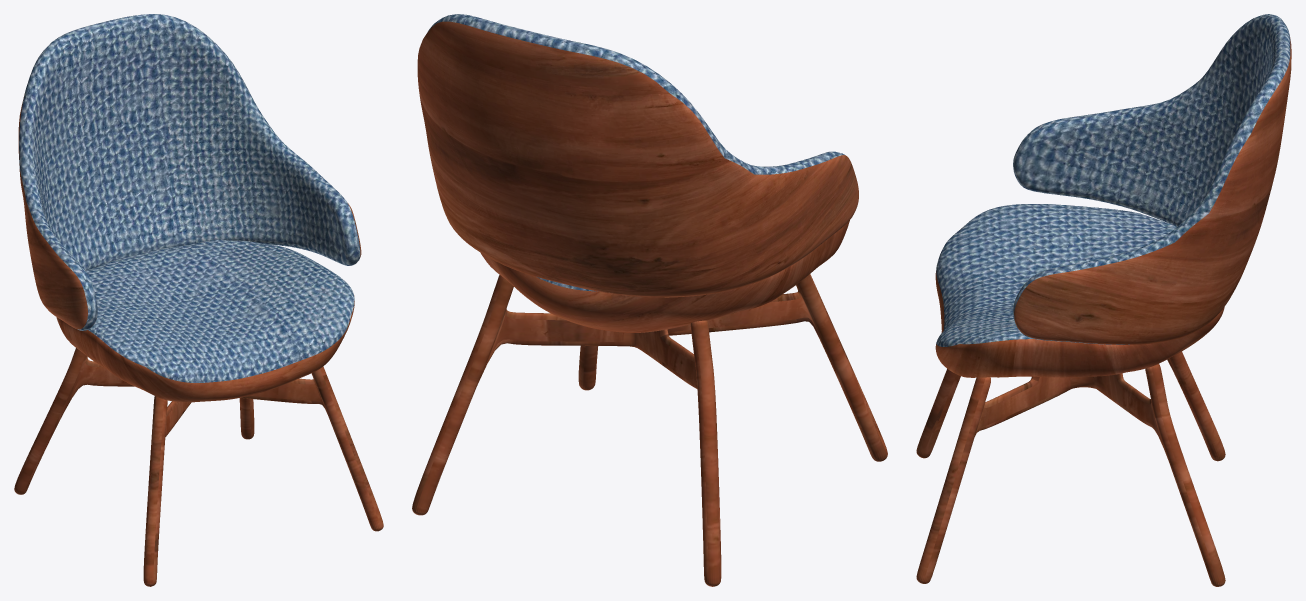
3 renders of one model, left to right at view 1: azimuth 30°, elevation 25°; view 2: azimuth 150°, elevation 25°; view 3: azimuth 270°, elevation 25°, orthographic. The views are drawn at different scales.
Parts seen in each view (by area): view 1: Chair_Back, Chair_Sit, Chair_Legs; view 2: Chair_Back, Chair_Legs, Chair_Sit; view 3: Chair_Back, Chair_Sit, Chair_Legs.
Part boxes in pixels (x1=…): Chair_Back: x1=18, y1=14, x2=361, y2=330; Chair_Sit: x1=56, y1=239, x2=354, y2=402; Chair_Legs: x1=14, y1=348, x2=383, y2=586; Chair_Back: x1=417, y1=14, x2=858, y2=297; Chair_Legs: x1=412, y1=274, x2=887, y2=586; Chair_Sit: x1=480, y1=220, x2=849, y2=332; Chair_Back: x1=1013, y1=14, x2=1291, y2=344; Chair_Sit: x1=935, y1=204, x2=1224, y2=377; Chair_Legs: x1=916, y1=351, x2=1225, y2=586.
Size of the model in its own units: 1.83 by 2.63 by 1.86.
2 materials, 2 textured.
